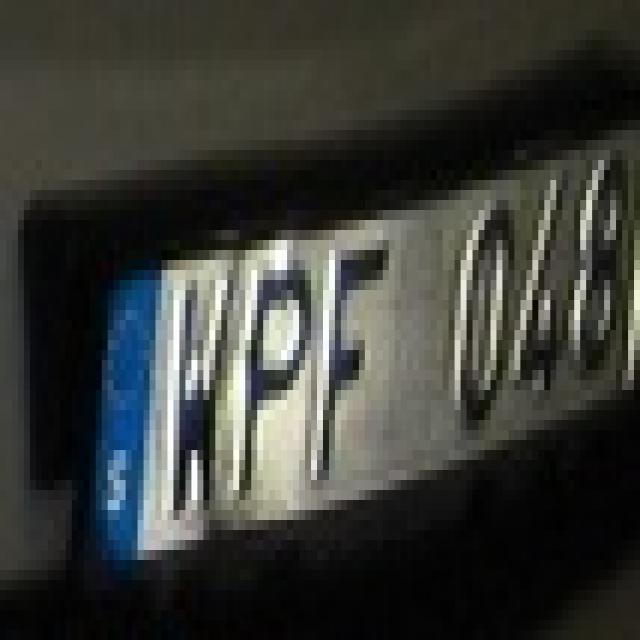licenseplate: (63, 108, 640, 595)
